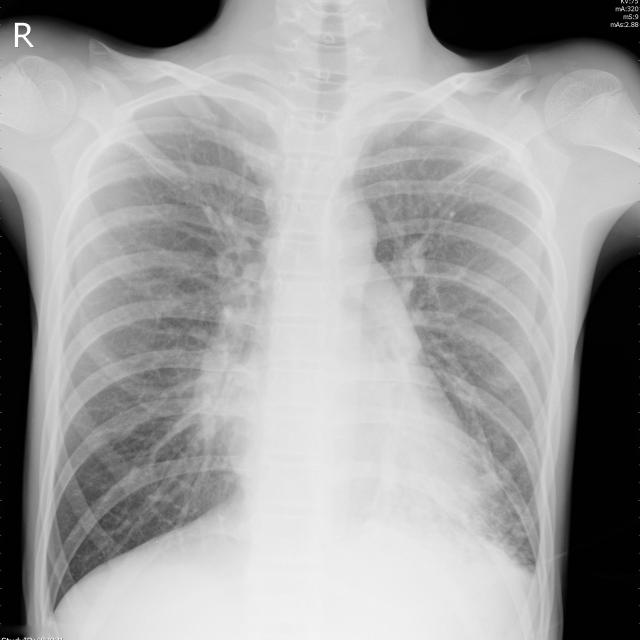low-pneumonia: (179, 228, 275, 432), (393, 213, 445, 306)
